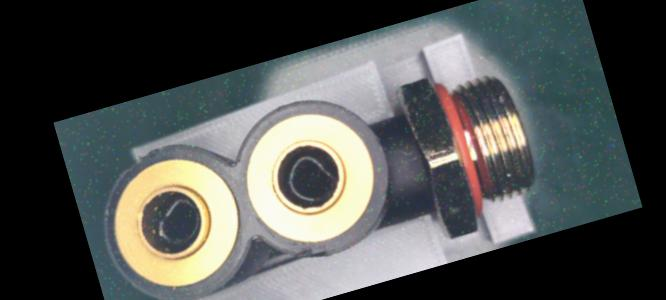bump: (108, 143, 166, 176), (288, 237, 334, 264)
joint line: (390, 155, 424, 173)
off-centered: (279, 145, 346, 211), (148, 191, 208, 253)
white mark: (394, 141, 417, 160)
